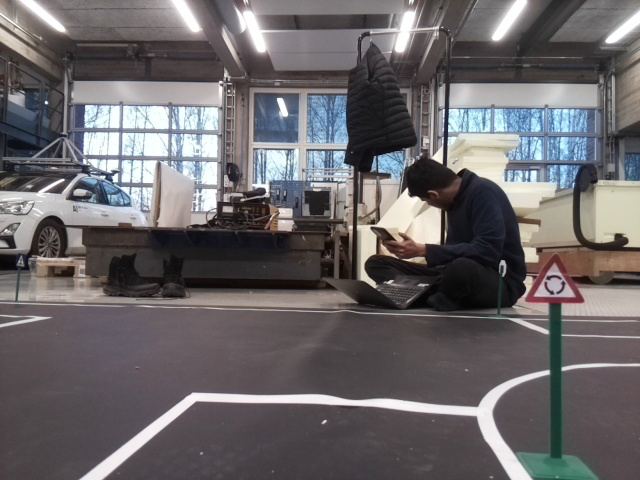Roundabout: (524, 251, 585, 303)
